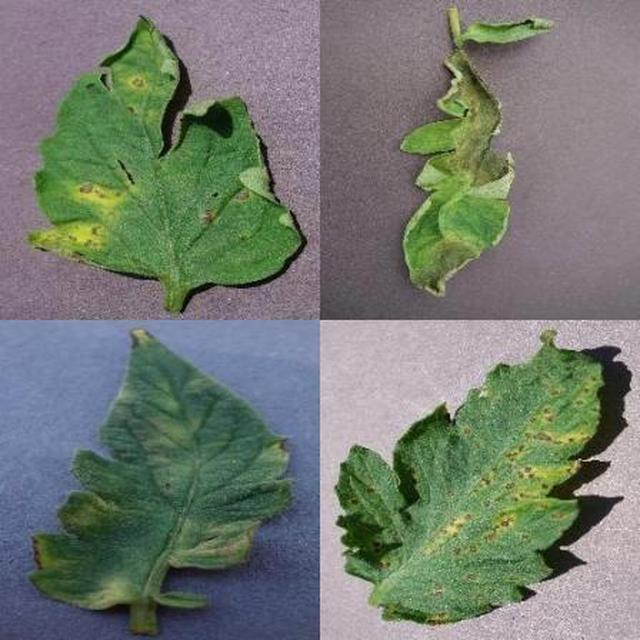Septoria Leaf: (126, 42, 640, 640)
